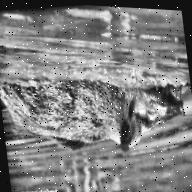boar: (0, 36, 192, 177)
